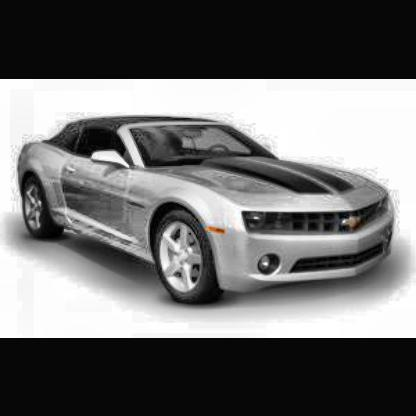Chevrolet Camaro Convertible 2012: (18, 116, 395, 308)
